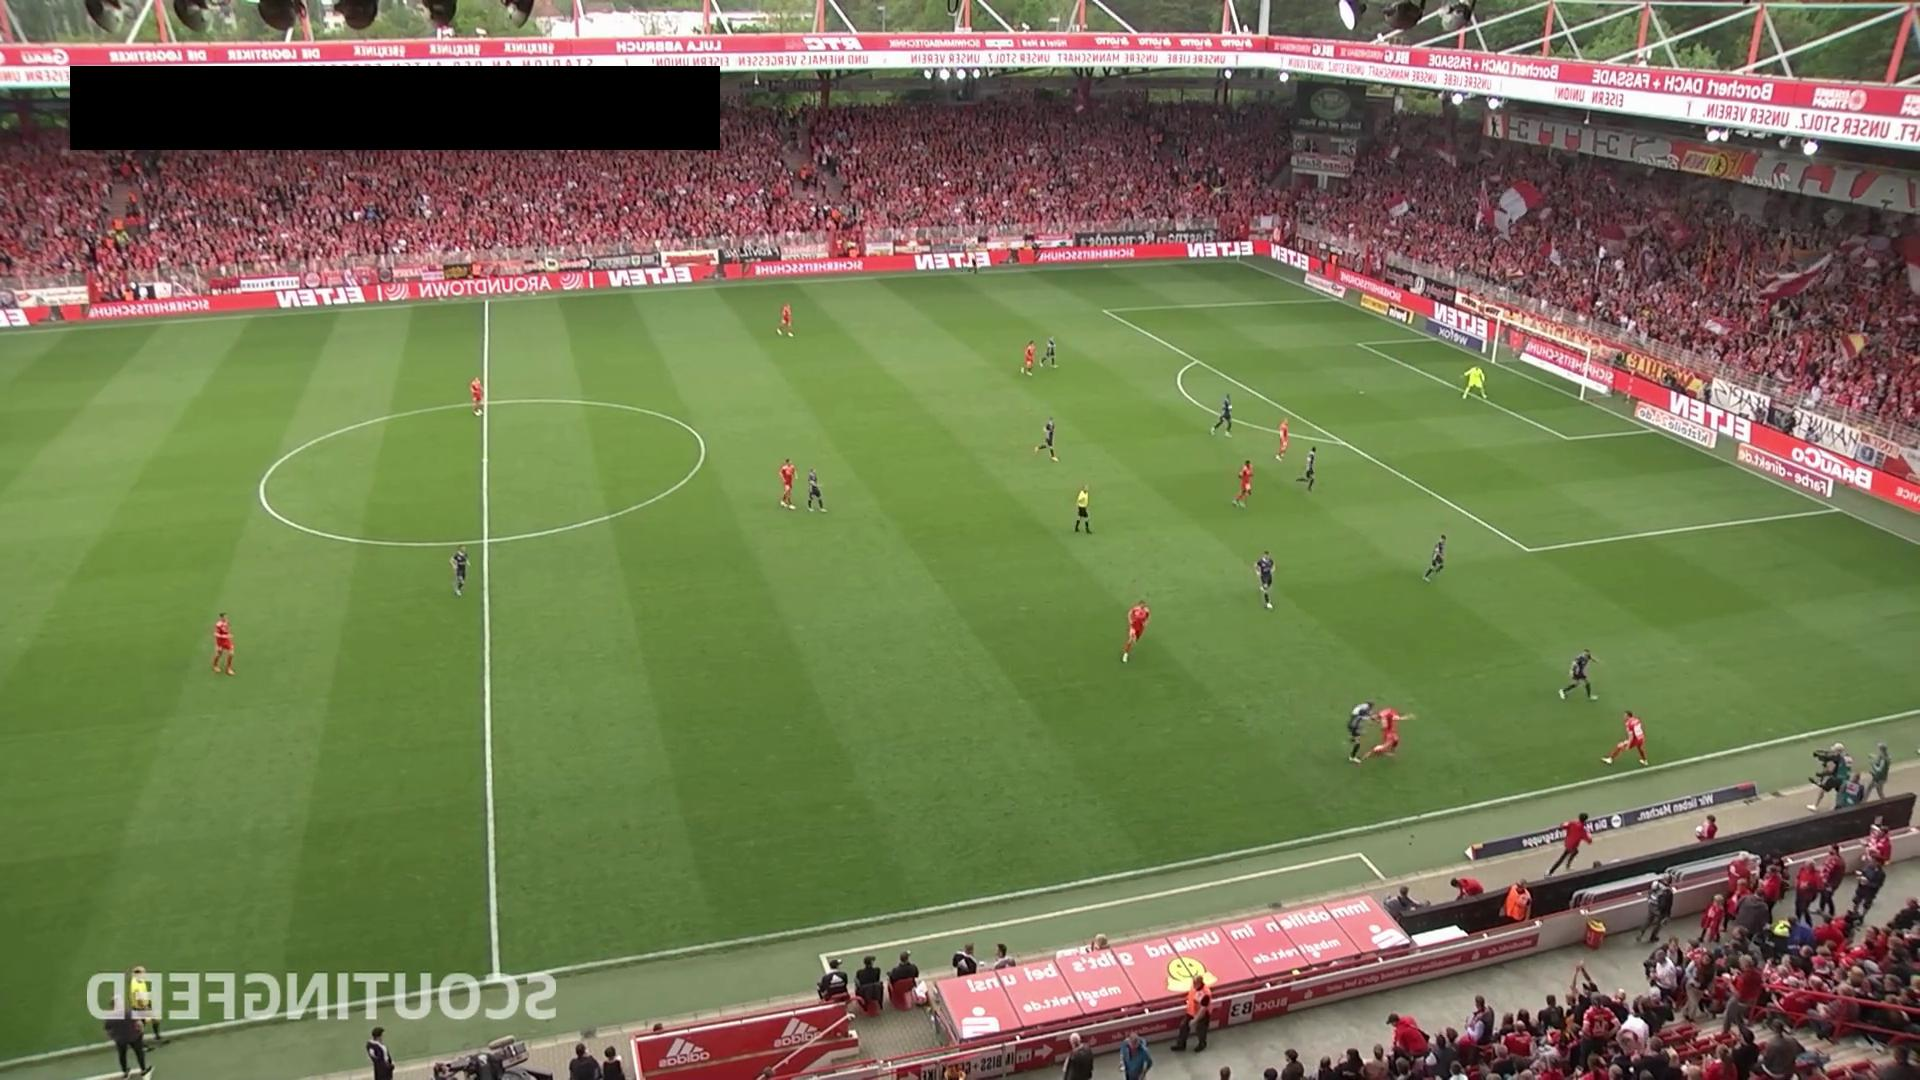goalkeeper: (1461, 364, 1488, 401)
player: (1358, 706, 1415, 764), (1601, 709, 1648, 766), (1559, 648, 1604, 701), (1346, 701, 1377, 765), (1122, 598, 1151, 663), (211, 612, 236, 676), (1254, 549, 1276, 610), (1033, 416, 1059, 463), (1423, 534, 1447, 582), (1210, 392, 1233, 437), (1232, 459, 1253, 508), (450, 546, 470, 597), (779, 457, 797, 509), (806, 468, 826, 512), (1297, 446, 1316, 490), (776, 302, 795, 337), (1275, 419, 1290, 461), (1021, 339, 1037, 376), (469, 376, 483, 416), (1045, 336, 1057, 368)
referee: (129, 965, 169, 1048), (1073, 484, 1093, 534), (963, 243, 979, 276)
